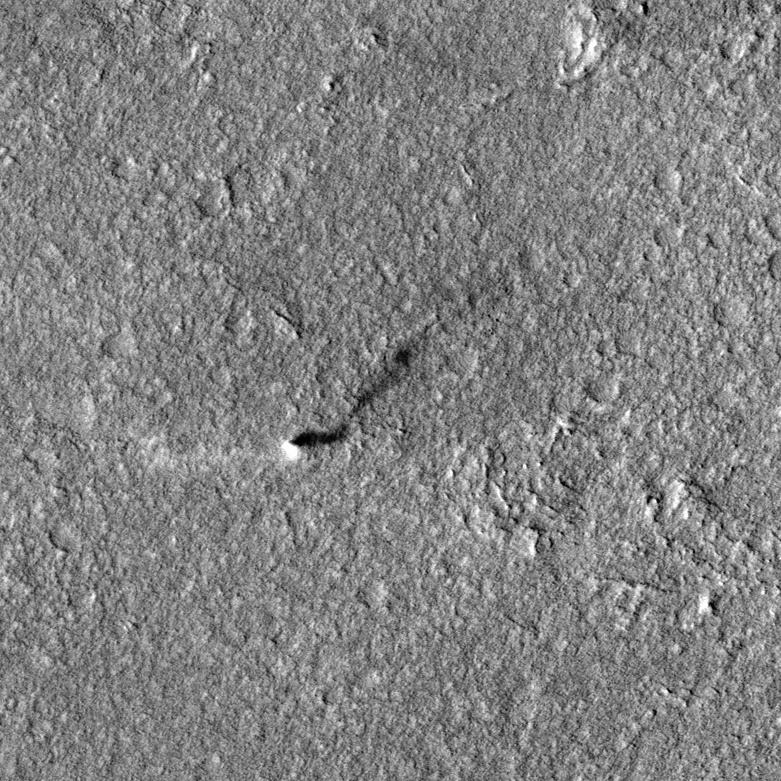dust_devil: (278, 334, 424, 463)
